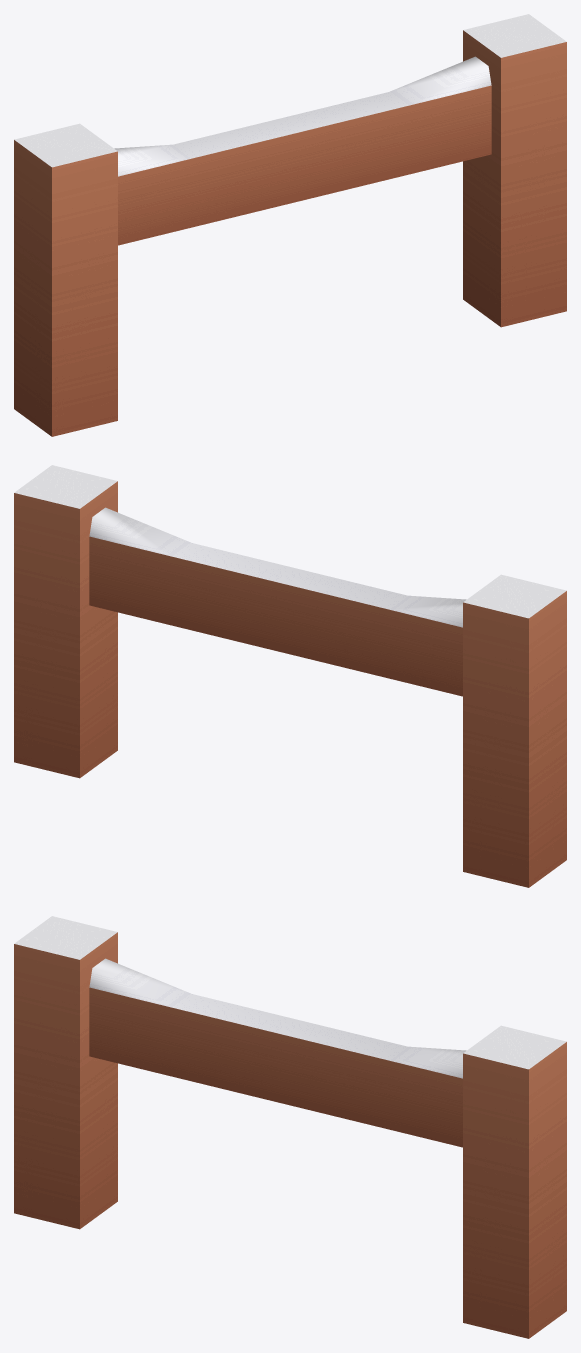
The model's file is snow-wood-structure-part.glb.
3 renders of one model, top to bottom at view 1: azimuth 30°, elevation 25°; view 2: azimuth 150°, elevation 25°; view 3: azimuth 330°, elevation 25°, orthographic.
Visible parts, largest first — view 1: snow-wood-structure-part; view 2: snow-wood-structure-part; view 3: snow-wood-structure-part.
Part boxes in pixels (left/top/right/bottom): snow-wood-structure-part: left=14, top=14, right=566, bottom=436; snow-wood-structure-part: left=14, top=465, right=566, bottom=887; snow-wood-structure-part: left=14, top=916, right=566, bottom=1338.
Size of the model in its own units: 1 by 0.5 by 0.128.
1 material, 1 textured.
